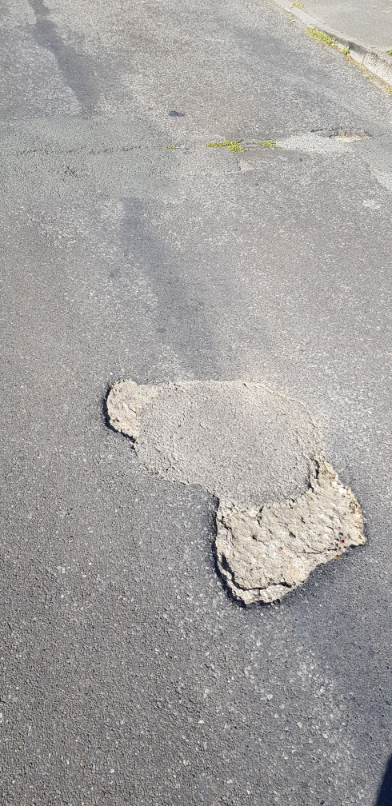pothole: (206, 451, 371, 610), (101, 371, 161, 446)
